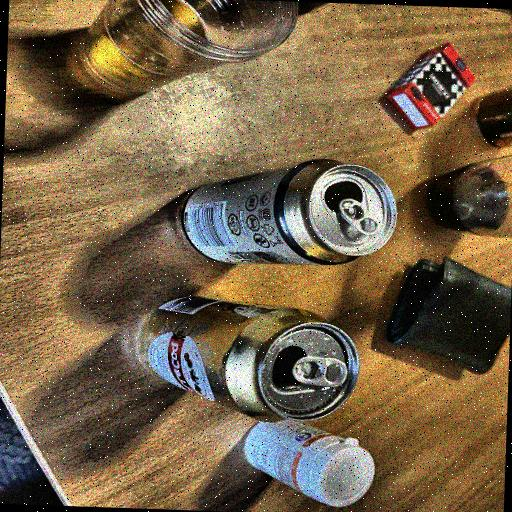A_LeCoq: (120, 299, 380, 408)
sandels: (178, 156, 400, 278)
